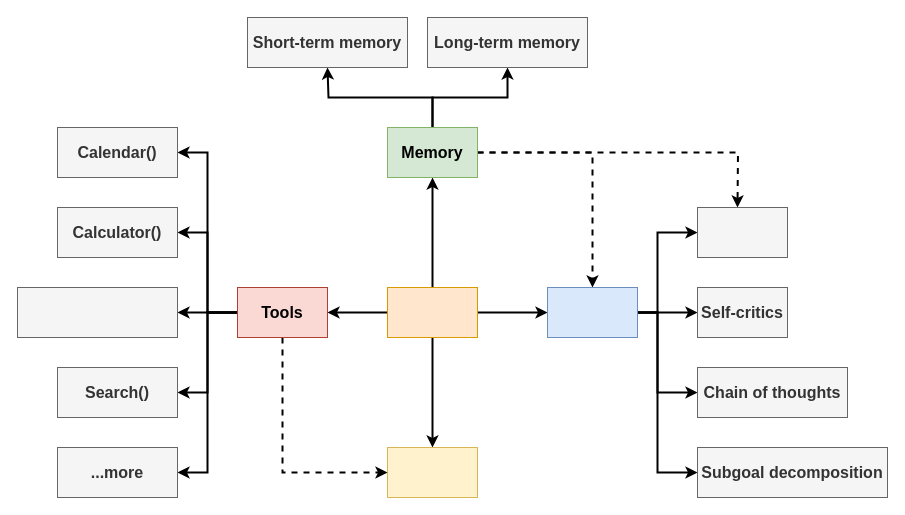
The diagram is 905 pixels wide and 515 high, and some of its shapes have lost their labels. The box of each missing label's shape, as (x1, y1, x2, y2) in pixels:
Action: (386, 446, 478, 498)
Agent: (386, 286, 478, 338)
CodeInterpreter(): (16, 286, 178, 338)
Planning: (546, 286, 638, 338)
Reflection: (696, 206, 788, 258)
